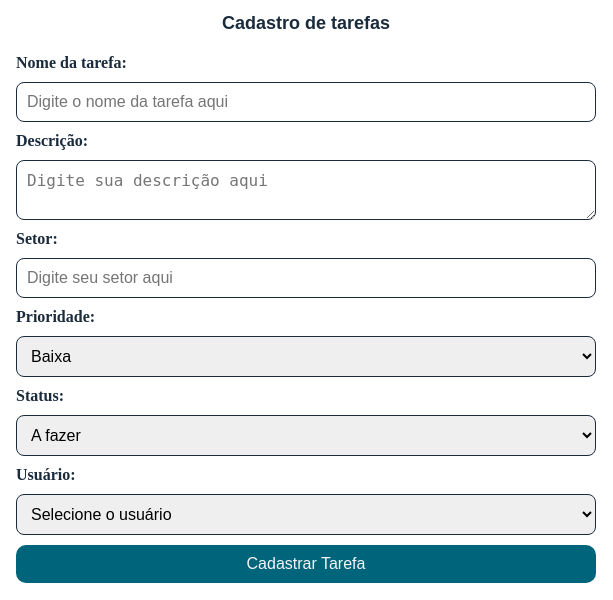
Test: Cadastro de tarefa › deve remover caracteres inválidos do nome do setor
The image size is (613, 600).
Type "Setor123!@#" into the field labelled "Setor:". click: point(306, 278)
box: [16,258,596,298]
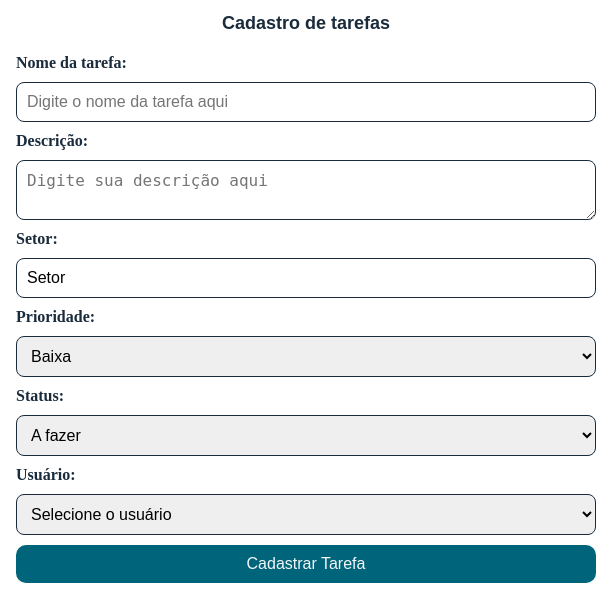
Now the field labelled "Setor:" holds "Setor", box [16,258,596,298]
